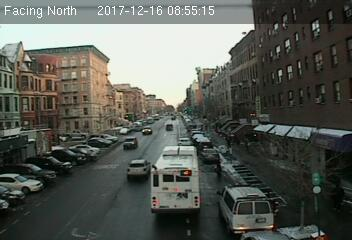bus: (149, 145, 202, 215)
car: (126, 160, 151, 178), (201, 148, 220, 163), (122, 135, 138, 149), (141, 126, 152, 136)
police: (214, 180, 274, 235)
